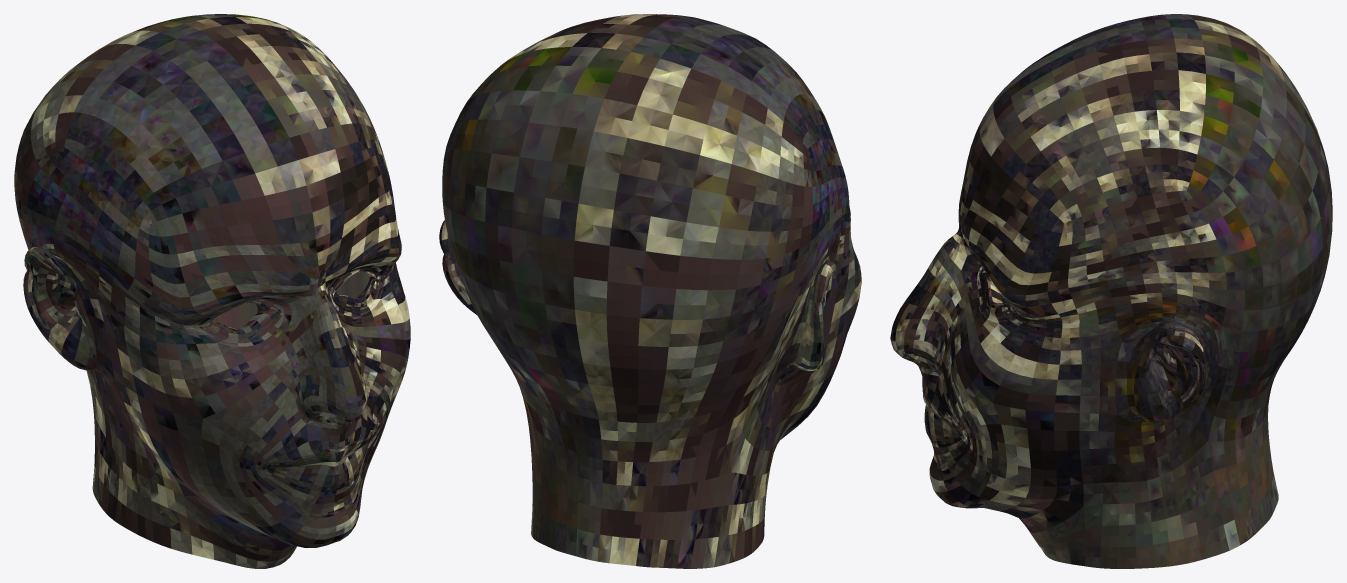
Rendered from 00016_face_fit_ortho_final.obj.
The picture shows the model from 3 angles, left to right: view 1: azimuth 30°, elevation 25°; view 2: azimuth 150°, elevation 25°; view 3: azimuth 270°, elevation 25°; orthographic projection. The views are drawn at different scales.
Bounding box in the file's own units: 290 × 389 × 307.
Materials: 1 (1 with a texture image).
